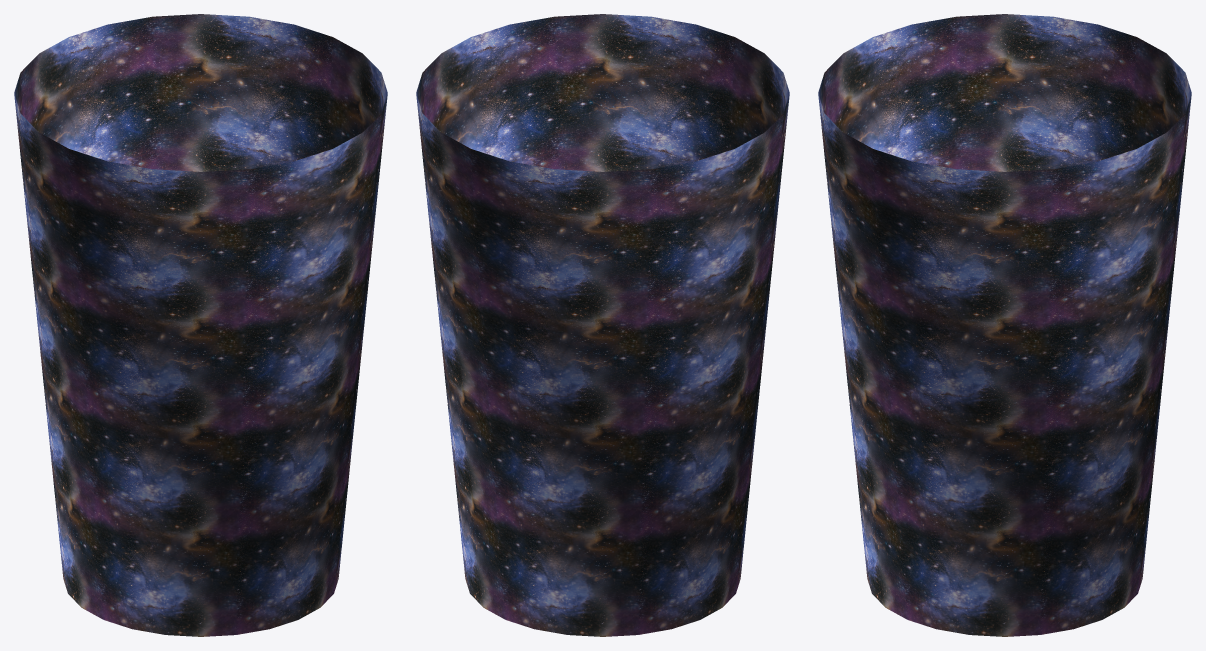
Rendered from skybox003.FBX.
3 renders of one model, left to right at view 1: azimuth 30°, elevation 25°; view 2: azimuth 150°, elevation 25°; view 3: azimuth 270°, elevation 25°, orthographic.
Parts seen in each view (by area): view 1: skybox003; view 2: skybox003; view 3: skybox003.
Part boxes in pixels (box(x1,y1,x2,y2)): skybox003: box(14, 14, 387, 636); skybox003: box(416, 14, 789, 636); skybox003: box(818, 14, 1191, 636).
Size of the model in its own units: 11951 by 17806 by 11951.
Materials: 1 (1 with a texture image).
